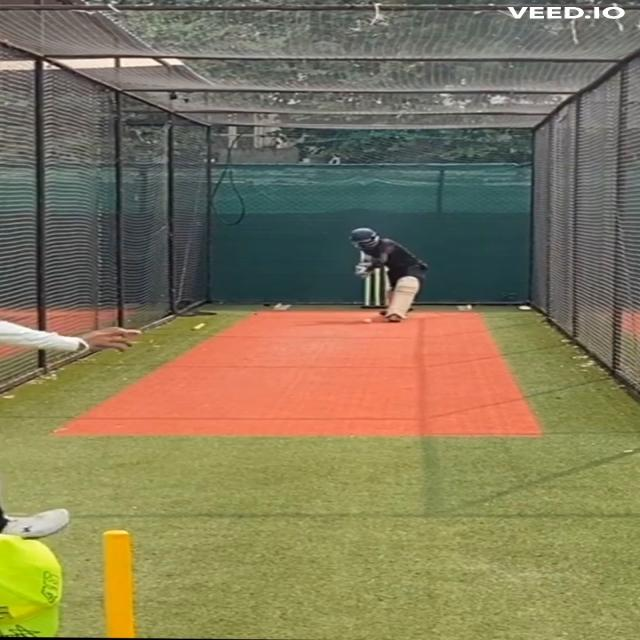ball: (360, 318, 375, 324)
stump: (364, 265, 392, 308)
